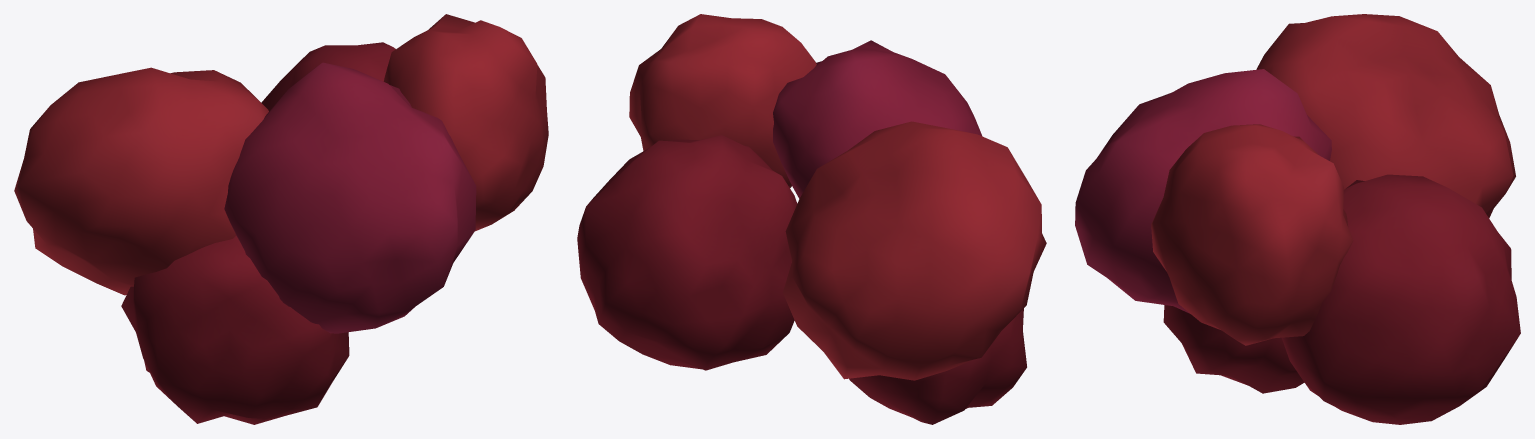
File: чай5вруке.fbx
The picture shows the model from 3 angles, left to right: view 1: azimuth 30°, elevation 25°; view 2: azimuth 150°, elevation 25°; view 3: azimuth 270°, elevation 25°; orthographic projection. The views are drawn at different scales.
Visible parts, largest first — view 1: Ягода_3, Ягода_1, Ягода_5, Ягода_4, Ягода_2; view 2: Ягода_1, Ягода_2, Ягода_4, Ягода_3, Ягода_5; view 3: Ягода_2, Ягода_4, Ягода_1, Ягода_3, Ягода_5.
Boxes of the visible parts, bbox=[...] form: Ягода_3: bbox=[224, 62, 476, 333]; Ягода_1: bbox=[14, 67, 268, 295]; Ягода_5: bbox=[121, 236, 349, 424]; Ягода_4: bbox=[383, 14, 548, 231]; Ягода_2: bbox=[261, 42, 395, 111]; Ягода_1: bbox=[783, 121, 1046, 380]; Ягода_2: bbox=[577, 135, 797, 370]; Ягода_4: bbox=[629, 14, 816, 187]; Ягода_3: bbox=[773, 40, 982, 198]; Ягода_5: bbox=[849, 308, 1026, 424]; Ягода_2: bbox=[1282, 174, 1520, 424]; Ягода_4: bbox=[1151, 124, 1353, 345]; Ягода_1: bbox=[1256, 14, 1515, 218]; Ягода_3: bbox=[1075, 69, 1331, 313]; Ягода_5: bbox=[1163, 305, 1304, 393].
Size of the model in its own units: 1.33 by 0.9278 by 1.07.
